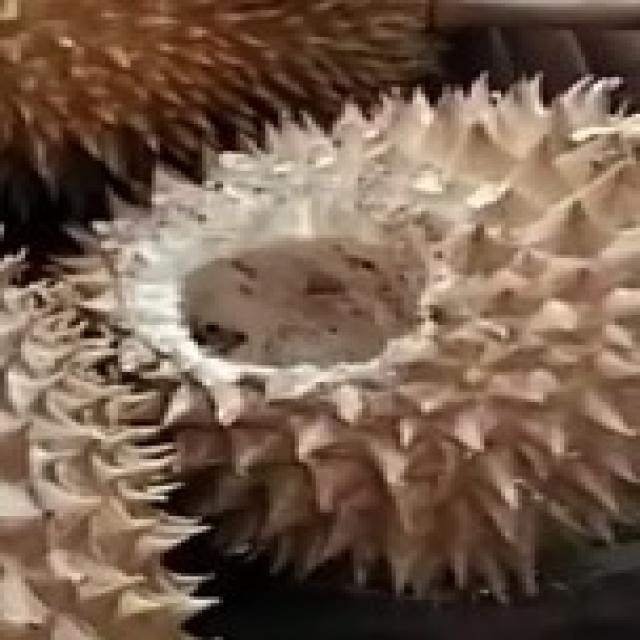defective: (62, 63, 640, 604)
